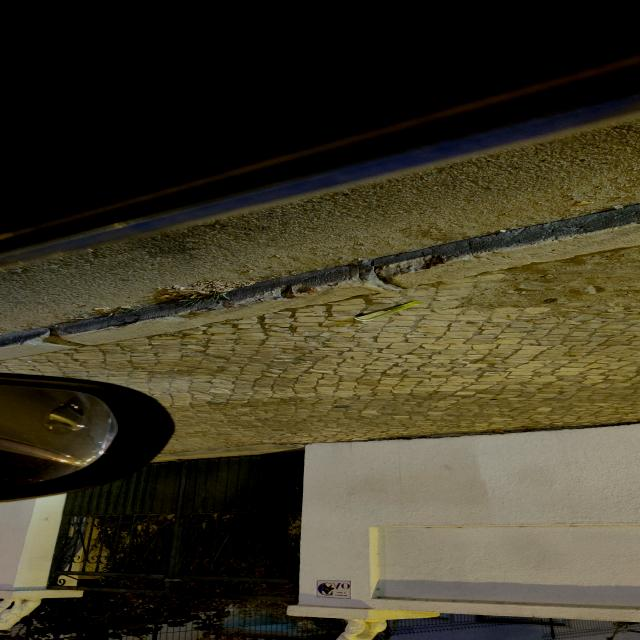Cigarette: (576, 201, 594, 206), (159, 295, 171, 299), (95, 307, 110, 310), (120, 306, 132, 309)
Meal carton: (355, 301, 425, 321)
